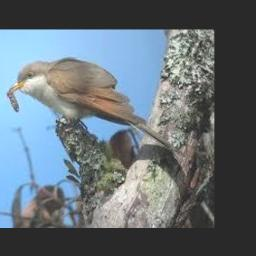Cuckoo: (10, 57, 174, 151)
